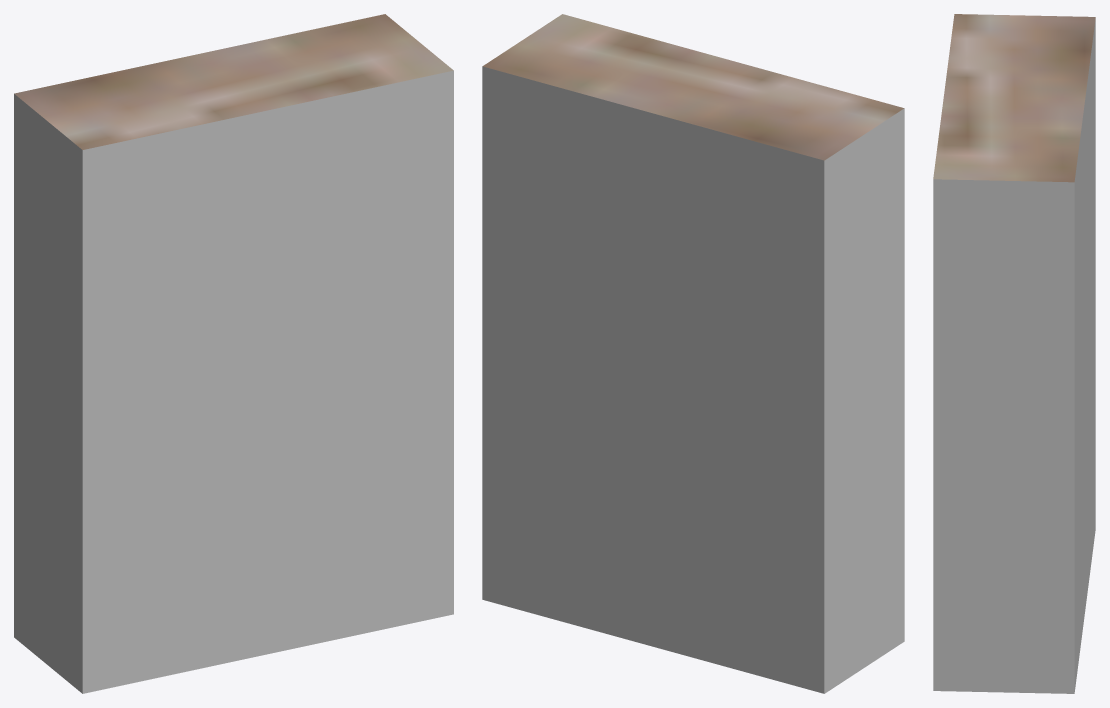
The model's file is DEBW_0010007THWd.gltf.
3 views of the same model, side by side, from view 1: azimuth 30°, elevation 25°; view 2: azimuth 150°, elevation 25°; view 3: azimuth 270°, elevation 25° (orthographic). The views are drawn at different scales.
Visible parts, largest first — view 1: Z_UP; view 2: Z_UP; view 3: Z_UP.
Boxes of the visible parts, bbox=[...] form: Z_UP: bbox=[14, 14, 453, 693]; Z_UP: bbox=[482, 14, 904, 693]; Z_UP: bbox=[933, 14, 1095, 693].
Size of the model in its own units: 3.38 by 4.79 by 1.38.
Materials: 2 (1 with a texture image).
